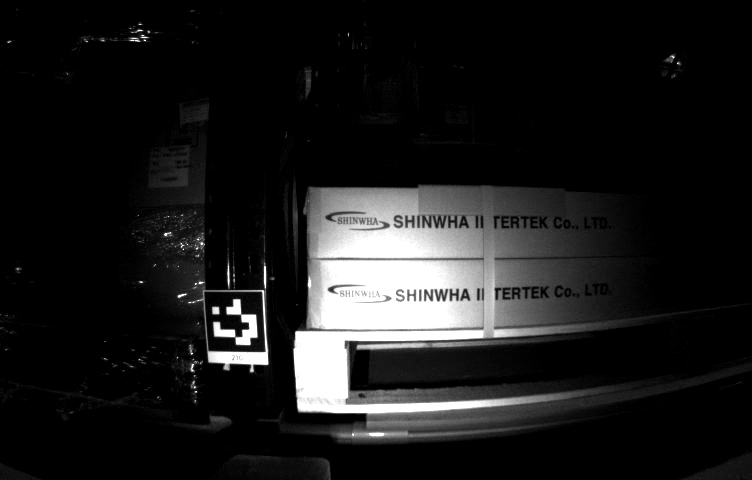True Barcode: (151, 145, 191, 187)
